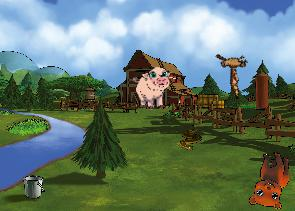bear: (248, 151, 289, 209)
eagle: (204, 41, 262, 99)
pig: (133, 67, 173, 110)
